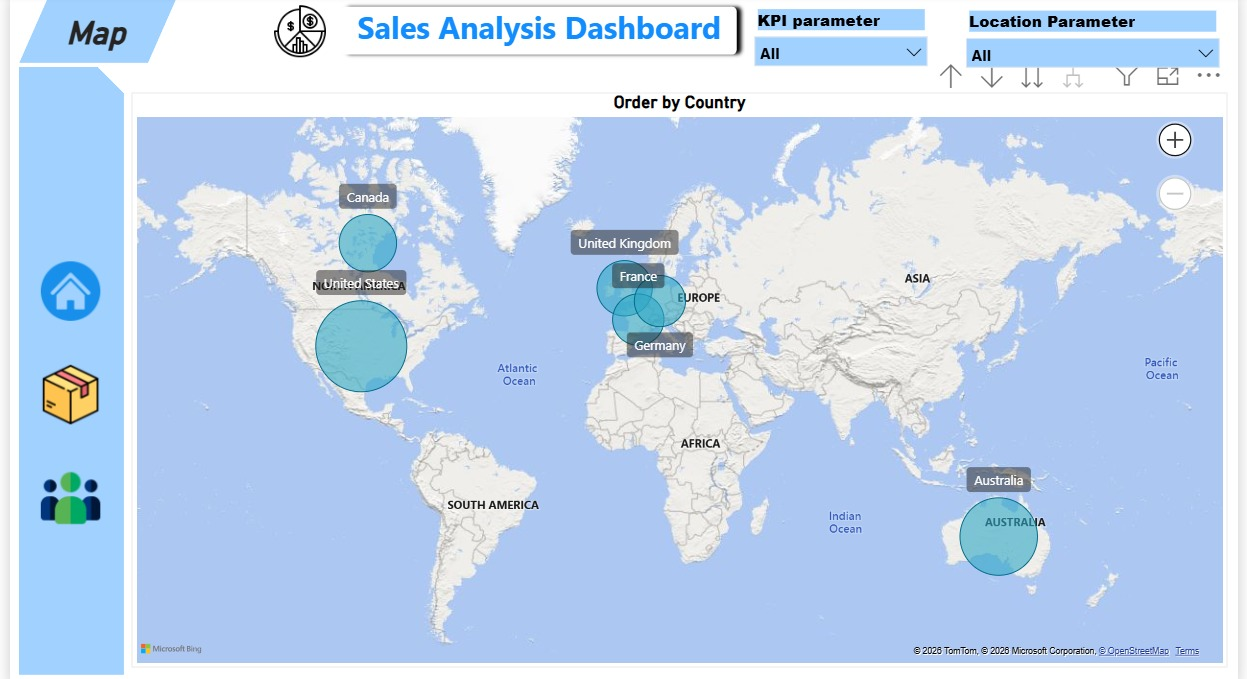

This screenshot's page, from the dashboard's own definition file:
{"tool":"powerbi","page":{"name":"Map","canvas":[1280,720],"ordinal":1},"visuals":[{"type":"shape","box":[8.6,74.9,109.4,633.6],"z":1000},{"type":"shape","box":[8.7,5.2,163.7,66.2],"z":2000},{"type":"textbox","box":[38.3,13.9,101,48.8],"z":3000},{"type":"map","fields":{"Category":["Territory lookup.Continent","Territory lookup.Country","Territory lookup.Region"],"Size":["_Measure Table.NO of Order"]},"box":[127.1,101,1142.4,599.1],"z":4000},{"type":"slicer","fields":{"Values":["Location Parameter 2.Location Parameter"]},"box":[986.4,11.5,283.7,90.7],"z":5000},{"type":"slicer","fields":{"Values":["KPI parameter 2.KPI parameter"]},"box":[766.1,10.1,200,90],"z":6000},{"type":"shape","box":[336.1,2.9,430.1,67.9],"z":7000},{"type":"textbox","box":[343.1,6.4,418,62.7],"z":8000},{"type":"image","box":[268.2,3.5,66.2,69.7],"z":9000},{"type":"actionButton","box":[27.8,273.4,70,70],"z":10000},{"type":"actionButton","box":[27.8,381.4,70,70],"z":11000},{"type":"actionButton","box":[27.8,489.4,70,70],"z":12000}]}

Visuals, with their boxes on the page's 1280x720 design canvas (x1, y1, x2, y2). These are canvas units, not pixel positions in the 1247x679 screenshot, which may show the page scaled, cropped or inside an application window:
shape: <box>9,75,118,708</box>
shape: <box>9,5,172,71</box>
textbox: <box>38,14,139,63</box>
map - Territory lookup.Continent x Territory lookup.Country: <box>127,101,1270,700</box>
slicer - Location Parameter 2.Location Parameter: <box>986,12,1270,102</box>
slicer - KPI parameter 2.KPI parameter: <box>766,10,966,100</box>
shape: <box>336,3,766,71</box>
textbox: <box>343,6,761,69</box>
image: <box>268,4,334,73</box>
actionButton: <box>28,273,98,343</box>
actionButton: <box>28,381,98,451</box>
actionButton: <box>28,489,98,559</box>
